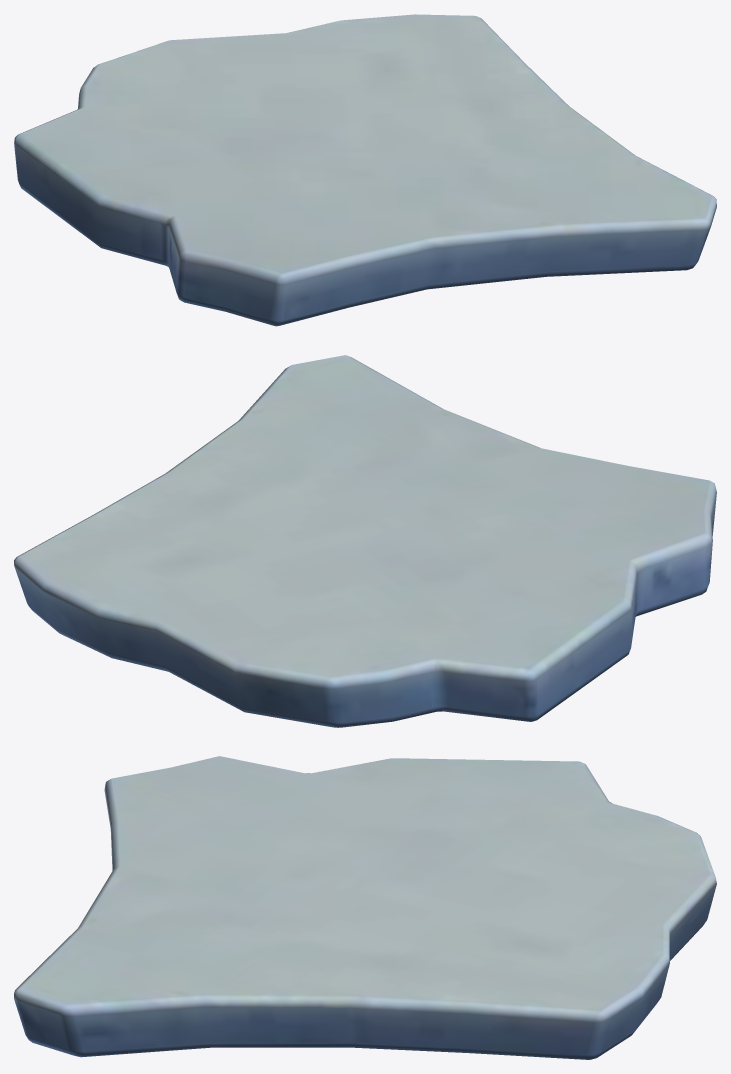
The picture shows the model from 3 angles, top to bottom: view 1: azimuth 30°, elevation 25°; view 2: azimuth 150°, elevation 25°; view 3: azimuth 270°, elevation 25°; orthographic projection. The views are drawn at different scales.
Parts seen in each view (by area): view 1: body0_model0_lod0_mesh0; view 2: body0_model0_lod0_mesh0; view 3: body0_model0_lod0_mesh0.
Boxes of the visible parts, x1,y1,x2,y2 form: body0_model0_lod0_mesh0: (14, 14, 716, 326); body0_model0_lod0_mesh0: (14, 355, 716, 727); body0_model0_lod0_mesh0: (14, 756, 716, 1059).
Size of the model in its own units: 170 by 20.94 by 198.
Materials: 1 (1 with a texture image).
